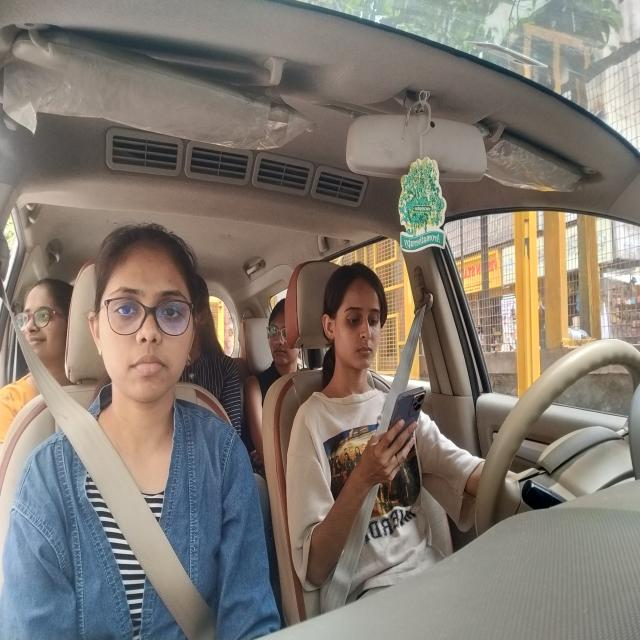mobile: (391, 379, 429, 442)
person: (100, 235, 192, 410), (320, 260, 385, 380), (20, 274, 70, 356), (186, 279, 223, 370), (268, 299, 300, 370)
